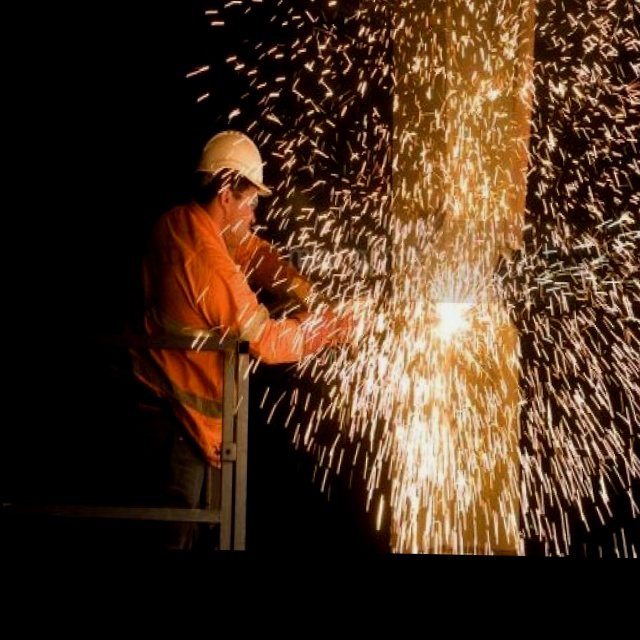Con_Casco: (194, 129, 275, 232)
